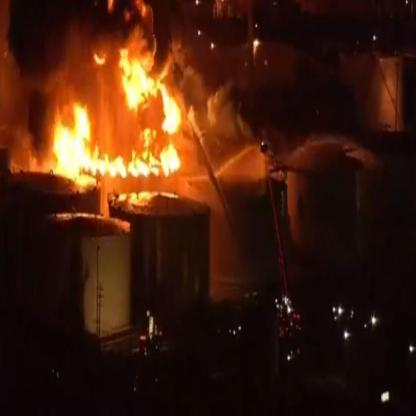fire: (48, 28, 184, 194)
